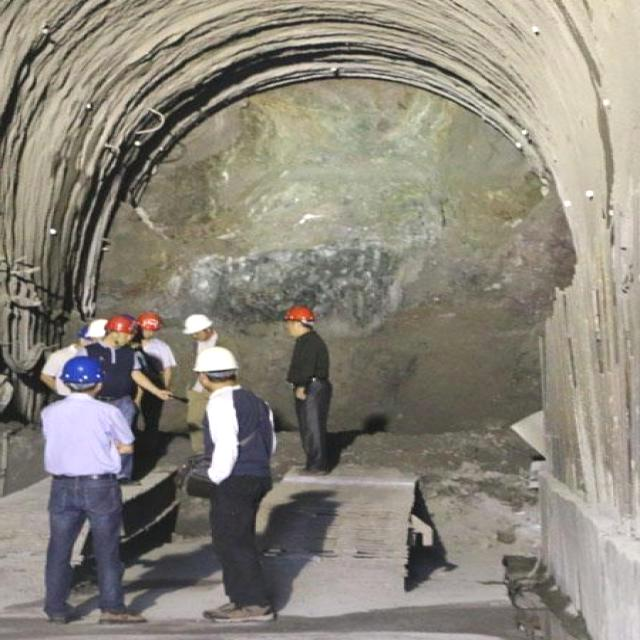face_nomask: (116, 330, 136, 346), (140, 326, 158, 340), (190, 329, 207, 342)
hand_noglove: (292, 384, 311, 400)
head_helmet: (59, 353, 107, 385), (191, 345, 241, 375), (102, 311, 143, 337), (180, 311, 216, 336), (134, 308, 168, 334), (283, 305, 318, 322)
person: (46, 354, 147, 630), (190, 346, 278, 626), (278, 302, 338, 482), (120, 307, 173, 452)
shoes: (199, 594, 279, 627), (92, 600, 150, 629), (37, 601, 76, 628), (296, 457, 330, 477)
